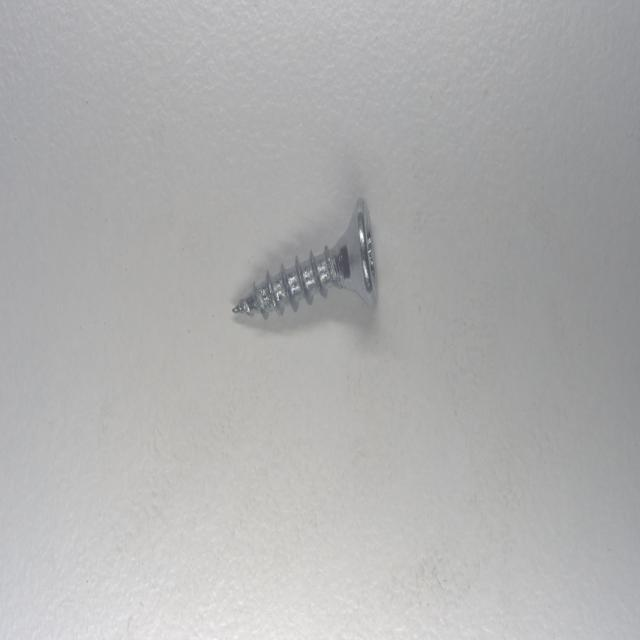Screw: (231, 194, 380, 322)
